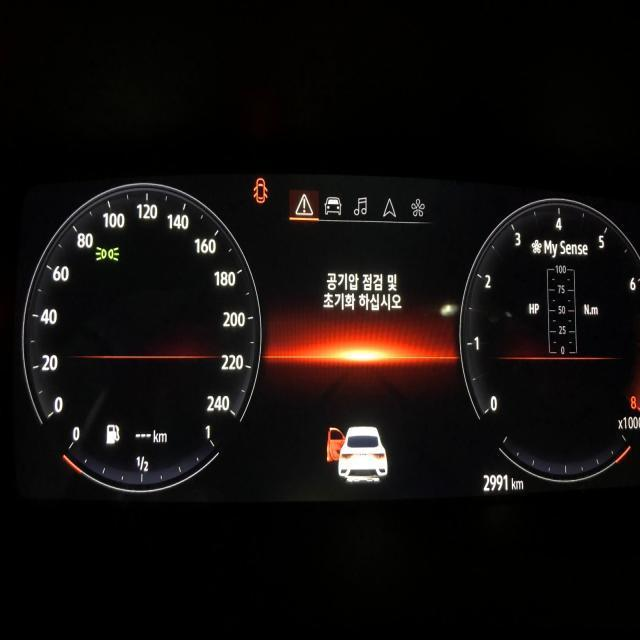Doors: (252, 176, 268, 203)
SideLamp: (94, 243, 120, 262)
